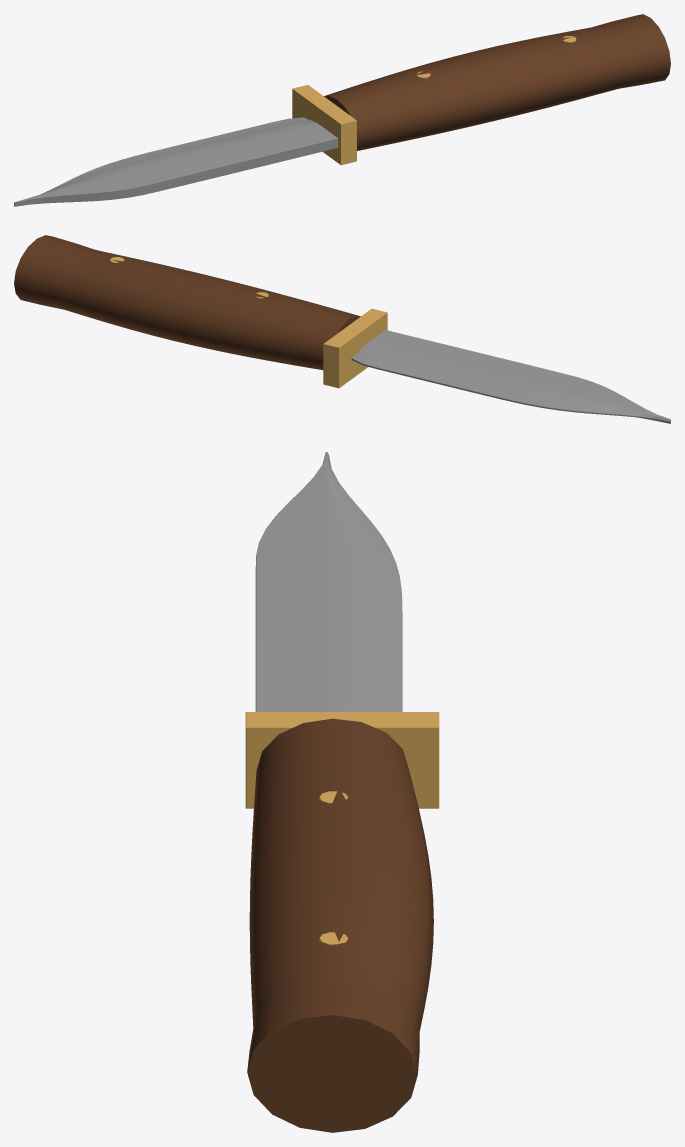
The model's file is knife.glb.
The picture shows the model from 3 angles, top to bottom: view 1: azimuth 30°, elevation 25°; view 2: azimuth 150°, elevation 25°; view 3: azimuth 270°, elevation 25°; orthographic projection. The views are drawn at different scales.
Parts seen in each view (by area): view 1: knife; view 2: knife; view 3: knife.
Part boxes in pixels (box(x1,y1,x2,y2)): knife: box(14, 14, 670, 206); knife: box(14, 235, 670, 423); knife: box(245, 452, 439, 1132).
Size of the model in its own units: 0.2195 by 0.0197 by 0.029.
